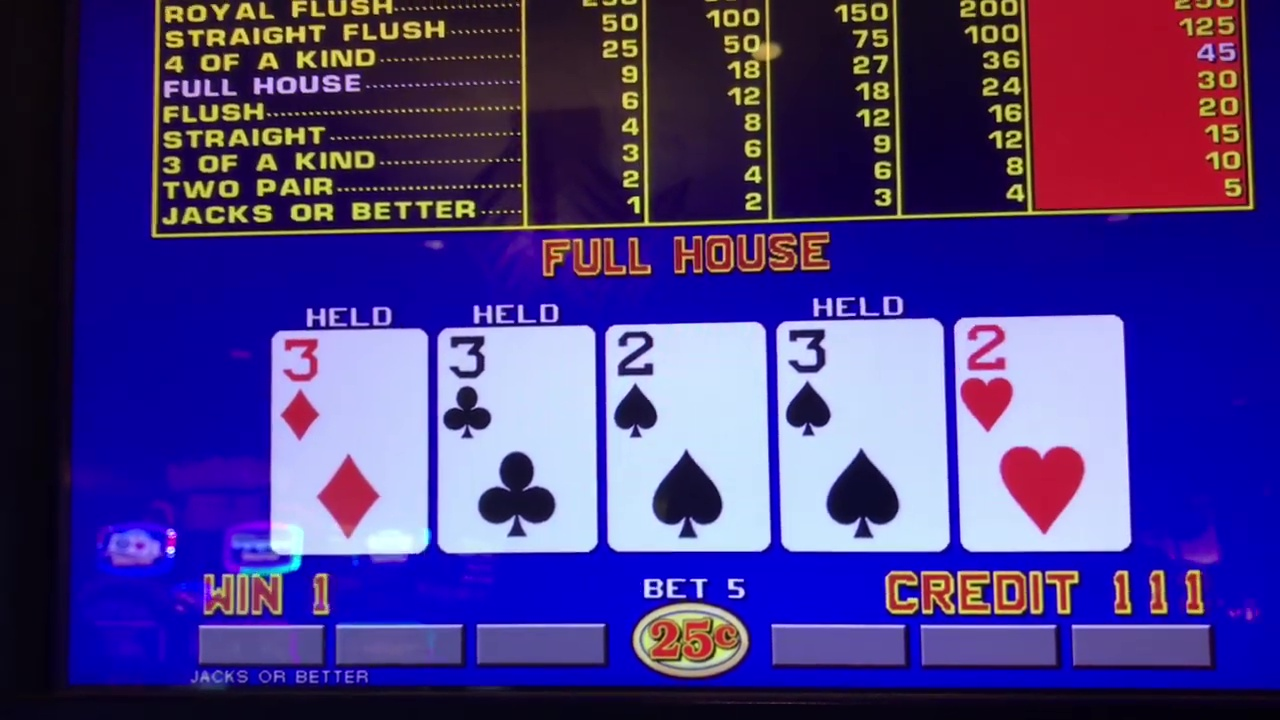C3: (441, 330, 591, 439)
D3: (279, 333, 421, 442)
H2: (964, 318, 1113, 433)
S2: (609, 326, 765, 438)
S3: (788, 323, 938, 435)
